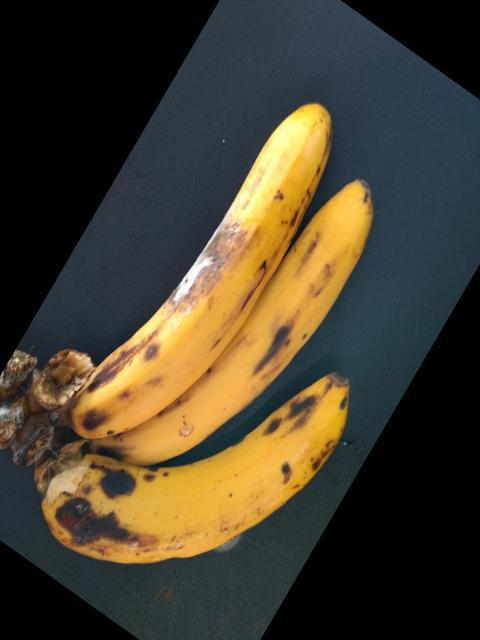overripe: (71, 83, 344, 433), (102, 175, 398, 463), (28, 375, 359, 576)
rotten: (152, 197, 264, 322)
